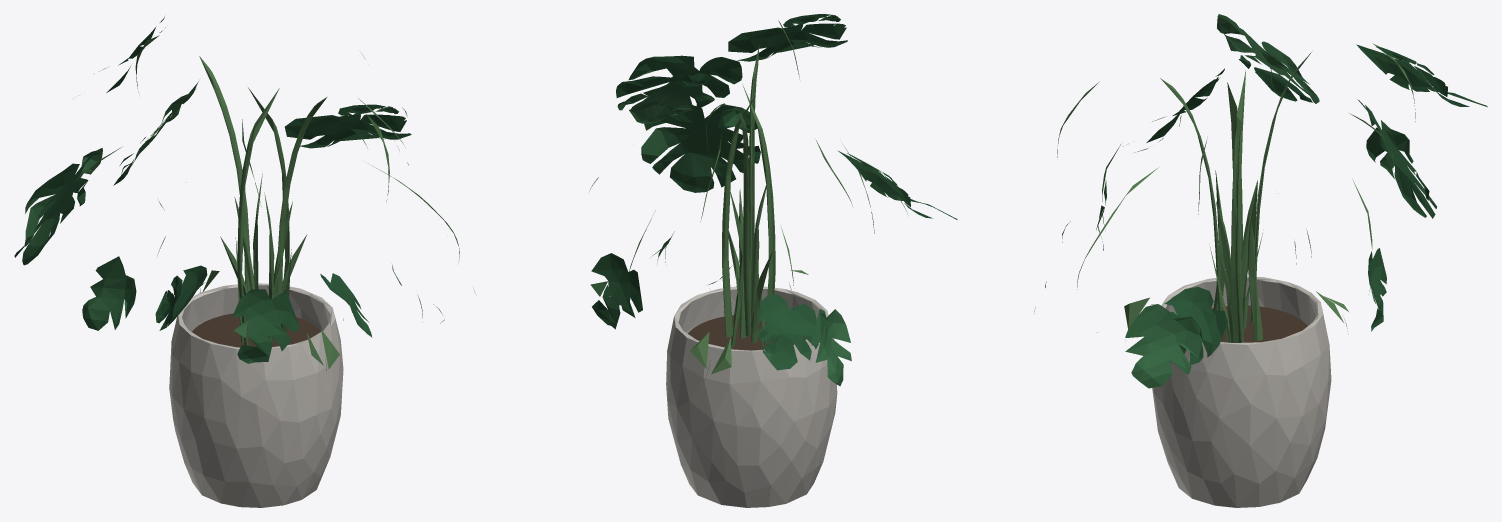
Rendered from monstera.glb.
3 views of the same model, side by side, from view 1: azimuth 30°, elevation 25°; view 2: azimuth 150°, elevation 25°; view 3: azimuth 270°, elevation 25° (orthographic). The views are drawn at different scales.
Parts seen in each view (by area): view 1: monstera; view 2: monstera; view 3: monstera.
Part boxes in pixels (box(x1,y1,x2,y2)): monstera: box(14, 17, 474, 507); monstera: box(589, 14, 957, 507); monstera: box(1034, 14, 1487, 507).
Size of the model in its own units: 0.8822 by 1 by 1.07.
